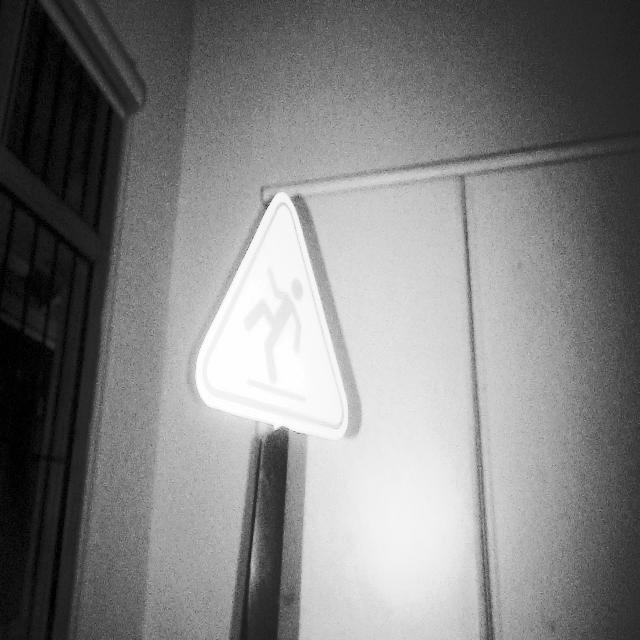Sign: (195, 189, 351, 441)
